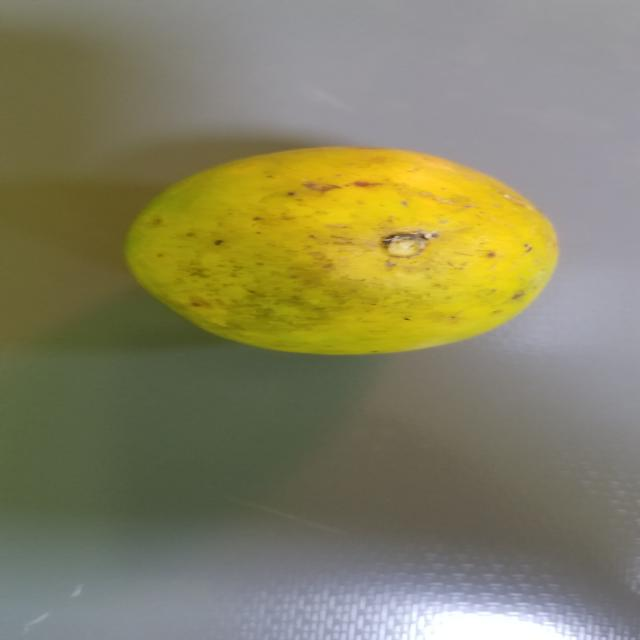Ripe orange: (105, 136, 584, 358)
